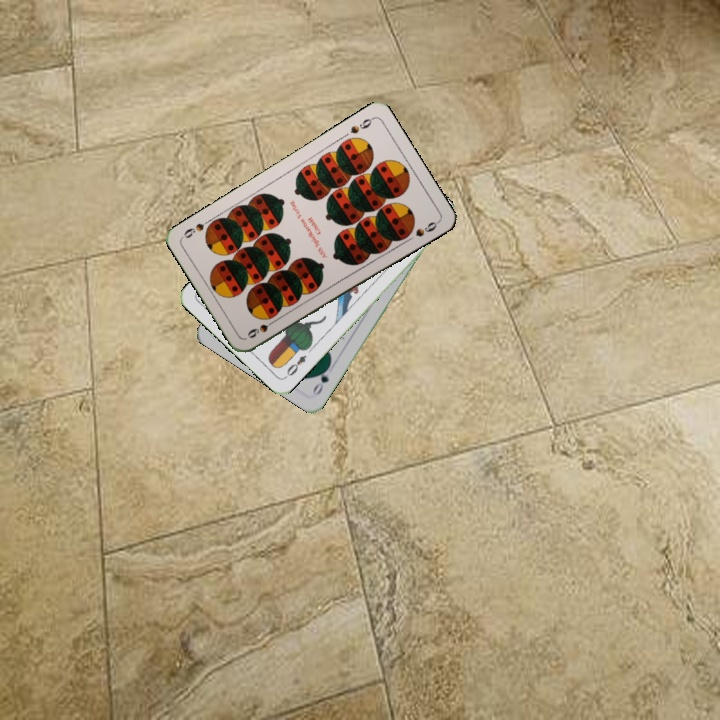EO: (281, 351, 309, 381)
GO: (309, 360, 333, 398)
S9: (243, 315, 280, 341), (346, 113, 376, 136)
